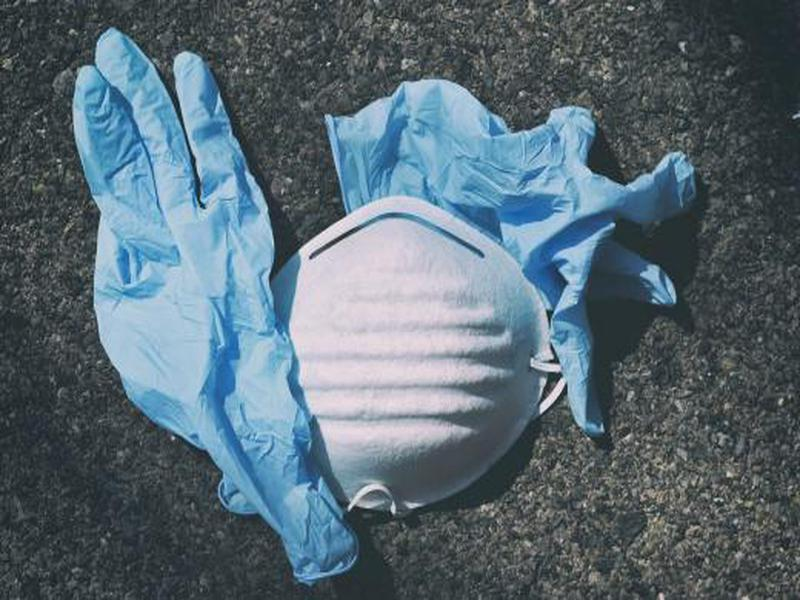gloves: (61, 21, 361, 585), (316, 73, 701, 435)
mask: (269, 196, 569, 517)
